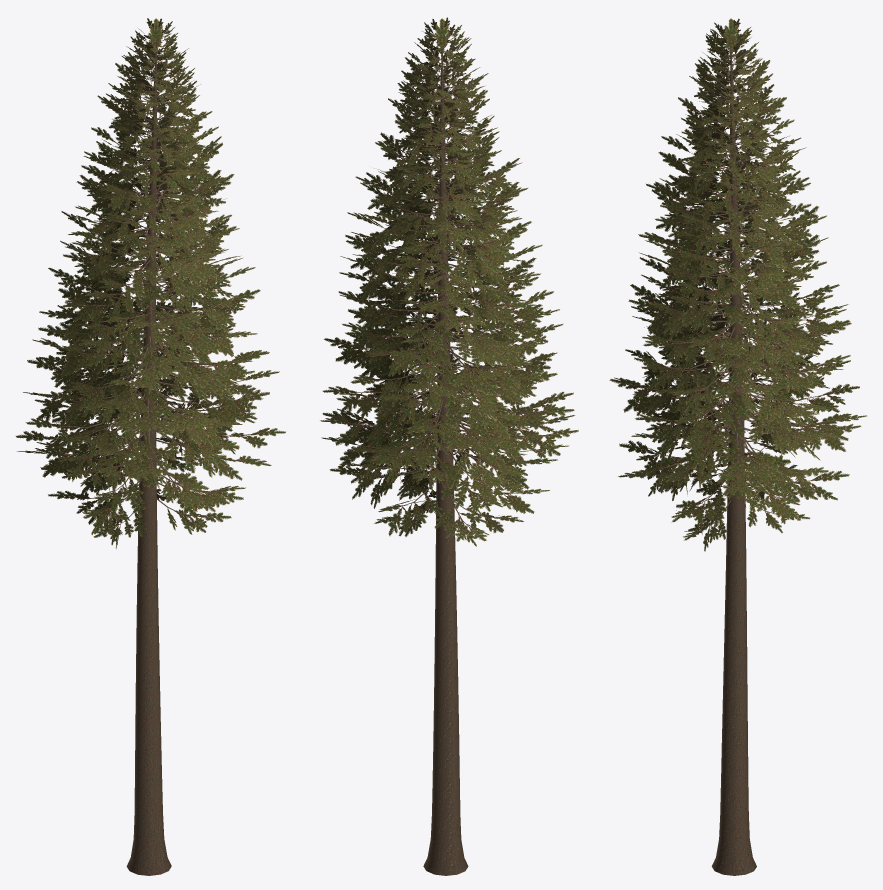
Rendered from fir_giant_b_lod0.gltf.
The picture shows the model from 3 angles, left to right: view 1: azimuth 30°, elevation 25°; view 2: azimuth 150°, elevation 25°; view 3: azimuth 270°, elevation 25°; orthographic projection.
Parts seen in each view (by area): view 1: fir_giant_b_LOD0; view 2: fir_giant_b_LOD0; view 3: fir_giant_b_LOD0.
Boxes of the visible parts, x1,y1,x2,y2 form: fir_giant_b_LOD0: (16, 18, 285, 875); fir_giant_b_LOD0: (320, 17, 578, 875); fir_giant_b_LOD0: (609, 18, 867, 875).
Bounding box in the file's own units: 12.45 × 44.6 × 12.31.
Materials: 2 (2 with a texture image).
